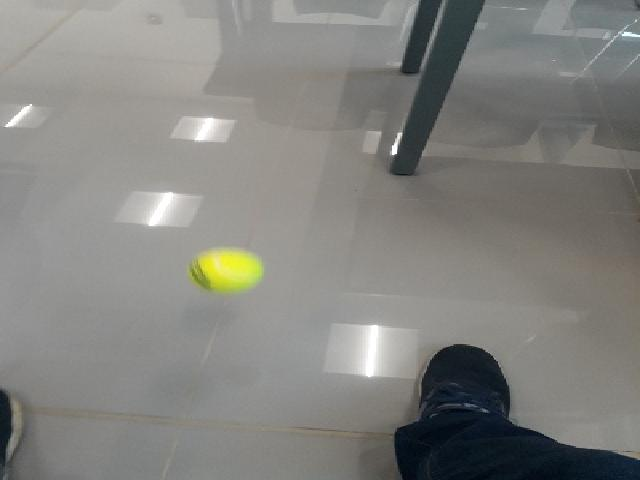Ball: (187, 250, 262, 295)
